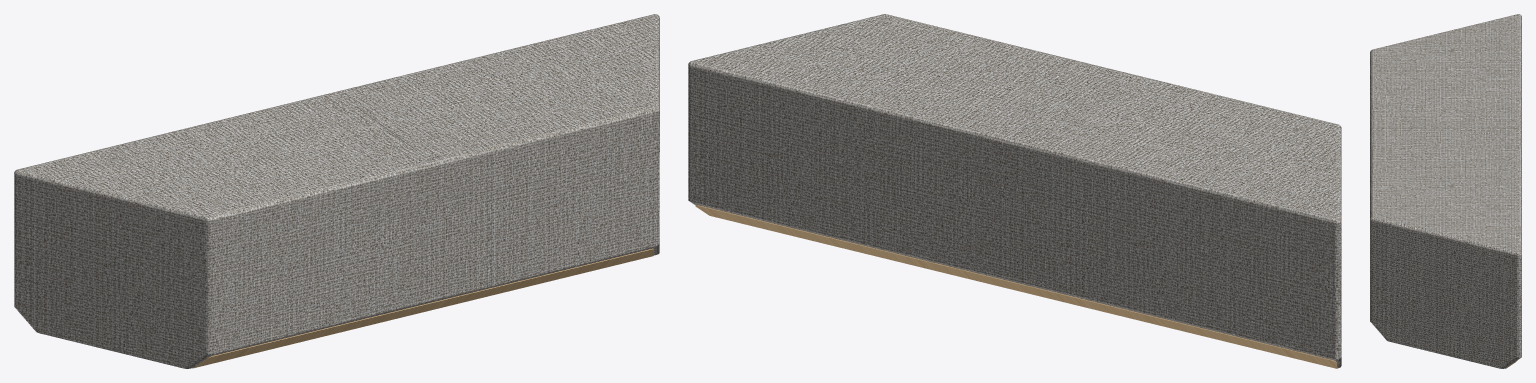
3 views of the same model, side by side, from view 1: azimuth 30°, elevation 25°; view 2: azimuth 150°, elevation 25°; view 3: azimuth 270°, elevation 25° (orthographic). The views are drawn at different scales.
Visible parts, largest first — view 1: 3, 6; view 2: 3, 8; view 3: 3.
Boxes of the visible parts, box(x1,y1,x2,y2) form: 3: box(14, 14, 659, 368); 6: box(192, 248, 654, 368); 3: box(688, 14, 1341, 368); 8: box(695, 205, 1337, 368); 3: box(1370, 14, 1521, 368).
Size of the model in its own units: 1.79 by 0.4231 by 0.4763.
3 materials, 2 textured.
